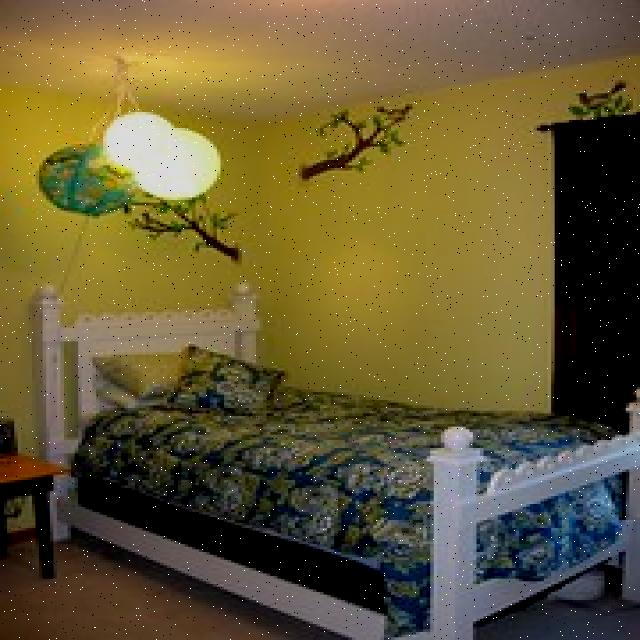bed: (19, 277, 640, 640)
